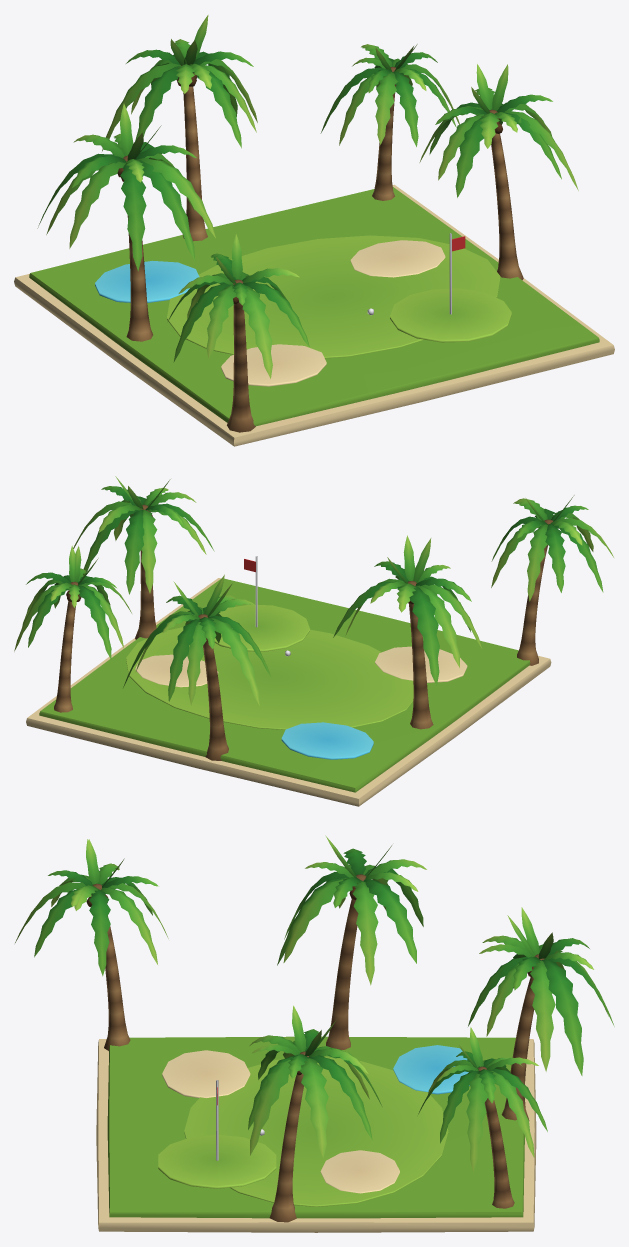
The model's file is GolfCourse.obj.
3 renders of one model, top to bottom at view 1: azimuth 30°, elevation 25°; view 2: azimuth 150°, elevation 25°; view 3: azimuth 270°, elevation 25°, orthographic. The views are drawn at different scales.
Visible parts, largest first — view 1: GolfCourse; view 2: GolfCourse; view 3: GolfCourse.
Boxes of the visible parts, x1,y1,x2,y2 form: GolfCourse: (14, 15, 614, 446); GolfCourse: (14, 476, 613, 806); GolfCourse: (15, 835, 614, 1232).
Bounding box in the file's own units: 5.18 × 2.27 × 5.46.
1 material, 1 textured.
